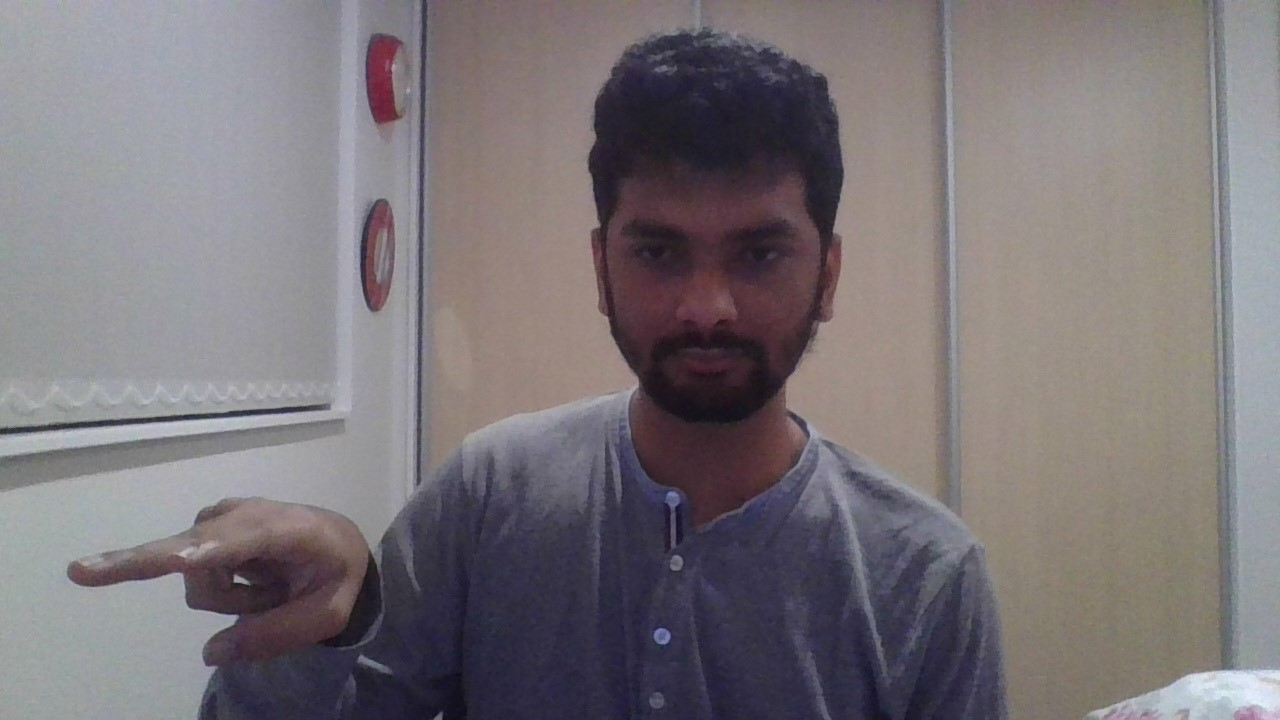look_around: (67, 496, 369, 666)
